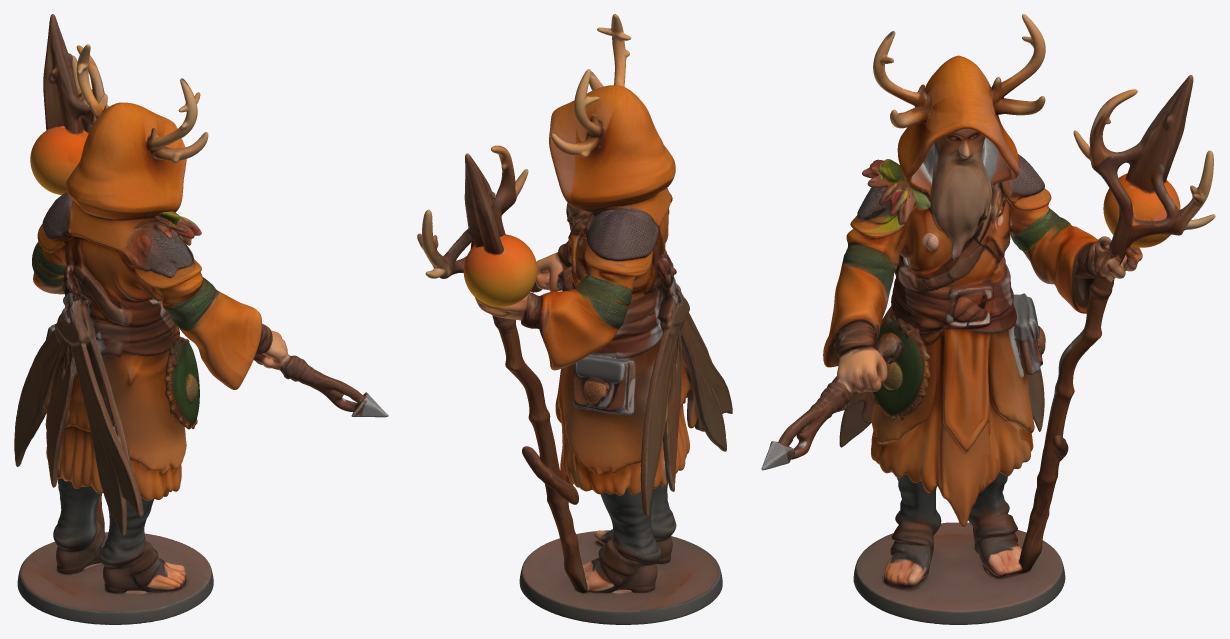
The picture shows the model from 3 angles, left to right: view 1: azimuth 30°, elevation 25°; view 2: azimuth 150°, elevation 25°; view 3: azimuth 270°, elevation 25°; orthographic projection. The views are drawn at different scales.
Visible parts, largest first — view 1: tripo_node_613ca0a9-1258-4d22-8318-2b02f90500bf; view 2: tripo_node_613ca0a9-1258-4d22-8318-2b02f90500bf; view 3: tripo_node_613ca0a9-1258-4d22-8318-2b02f90500bf.
Part boxes in pixels (bbox=[...]): tripo_node_613ca0a9-1258-4d22-8318-2b02f90500bf: bbox=[14, 14, 388, 624]; tripo_node_613ca0a9-1258-4d22-8318-2b02f90500bf: bbox=[417, 14, 732, 624]; tripo_node_613ca0a9-1258-4d22-8318-2b02f90500bf: bbox=[761, 14, 1215, 624].
Size of the model in its own units: 0.5407 by 1 by 0.7243.
Materials: 1 (1 with a texture image).
